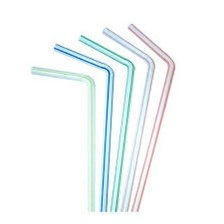drinking_straw: (26, 62, 102, 214), (124, 21, 180, 213)
